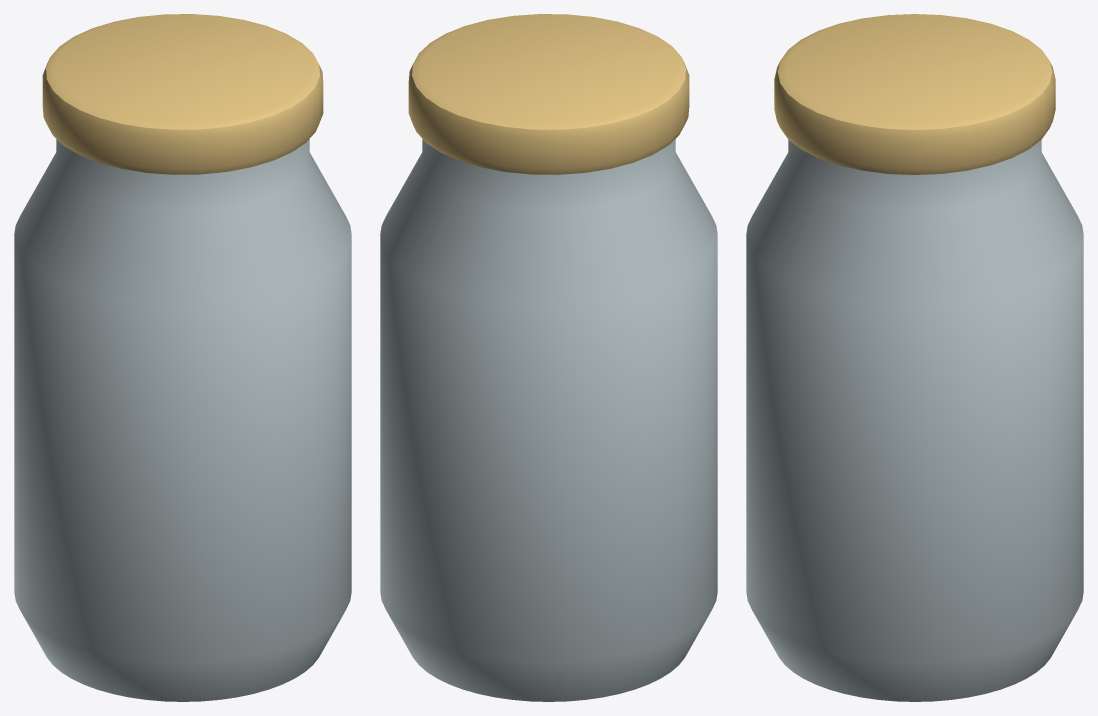
File: jar.glb
The picture shows the model from 3 angles, left to right: view 1: azimuth 30°, elevation 25°; view 2: azimuth 150°, elevation 25°; view 3: azimuth 270°, elevation 25°; orthographic projection.
Visible parts, largest first — view 1: jar, lid; view 2: jar, lid; view 3: jar, lid.
Part boxes in pixels (x1,y1,x2,y2): jar: (14, 139, 351, 701); lid: (42, 14, 323, 174); jar: (380, 139, 717, 701); lid: (408, 14, 689, 174); jar: (746, 139, 1083, 701); lid: (774, 14, 1055, 174).
Bounding box in the file's own units: 0.12 × 0.225 × 0.12.
